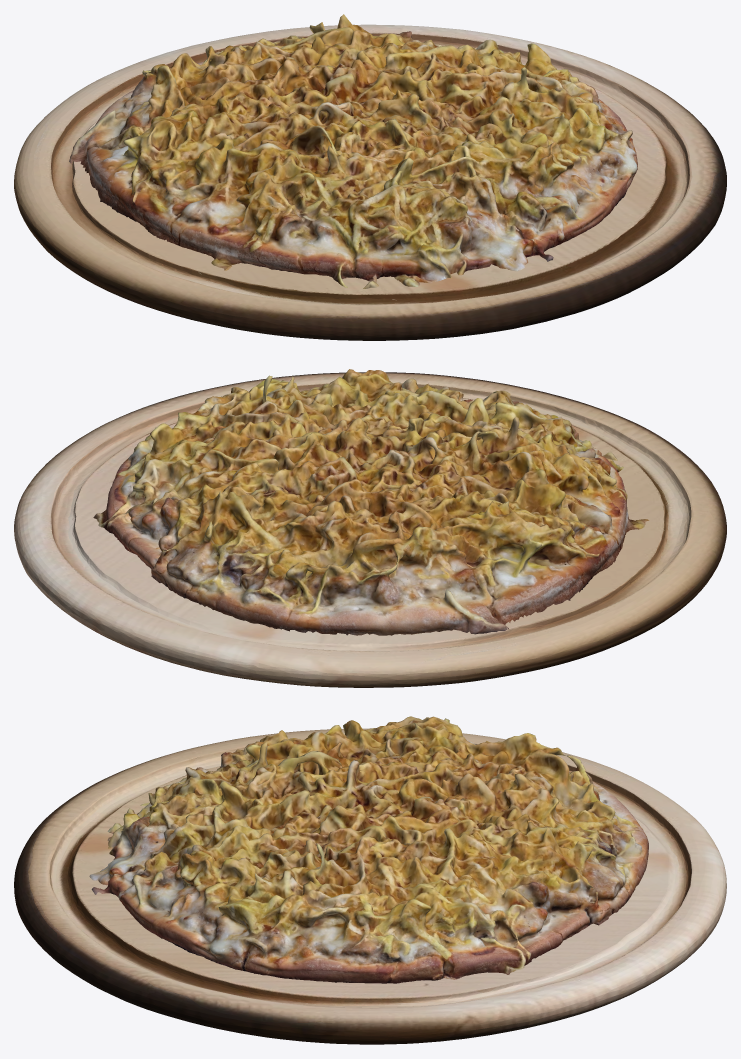
The model's file is pizza.peperoni.glb.
The picture shows the model from 3 angles, top to bottom: view 1: azimuth 30°, elevation 25°; view 2: azimuth 150°, elevation 25°; view 3: azimuth 270°, elevation 25°; orthographic projection.
Visible parts, largest first — view 1: 3DModel.001, world.004; view 2: 3DModel.001, world.004; view 3: 3DModel.001, world.004.
Part boxes in pixels (bbox=[...]): 3DModel.001: bbox=[69, 14, 637, 288]; world.004: bbox=[14, 24, 726, 340]; 3DModel.001: bbox=[93, 369, 664, 635]; world.004: bbox=[14, 372, 726, 687]; 3DModel.001: bbox=[89, 716, 648, 983]; world.004: bbox=[14, 728, 726, 1044].
Size of the model in its own units: 0.5053 by 0.0921 by 0.5053.
Materials: 2 (2 with a texture image).
